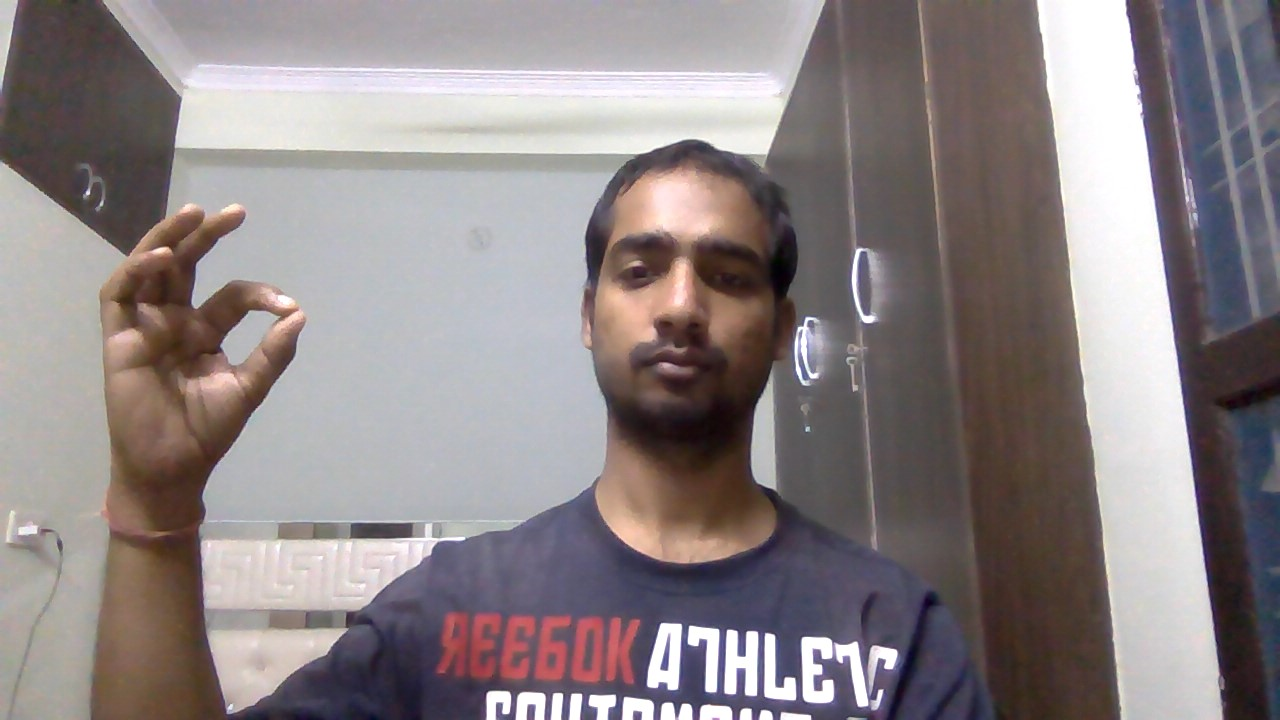Copy: (90, 193, 326, 497)
